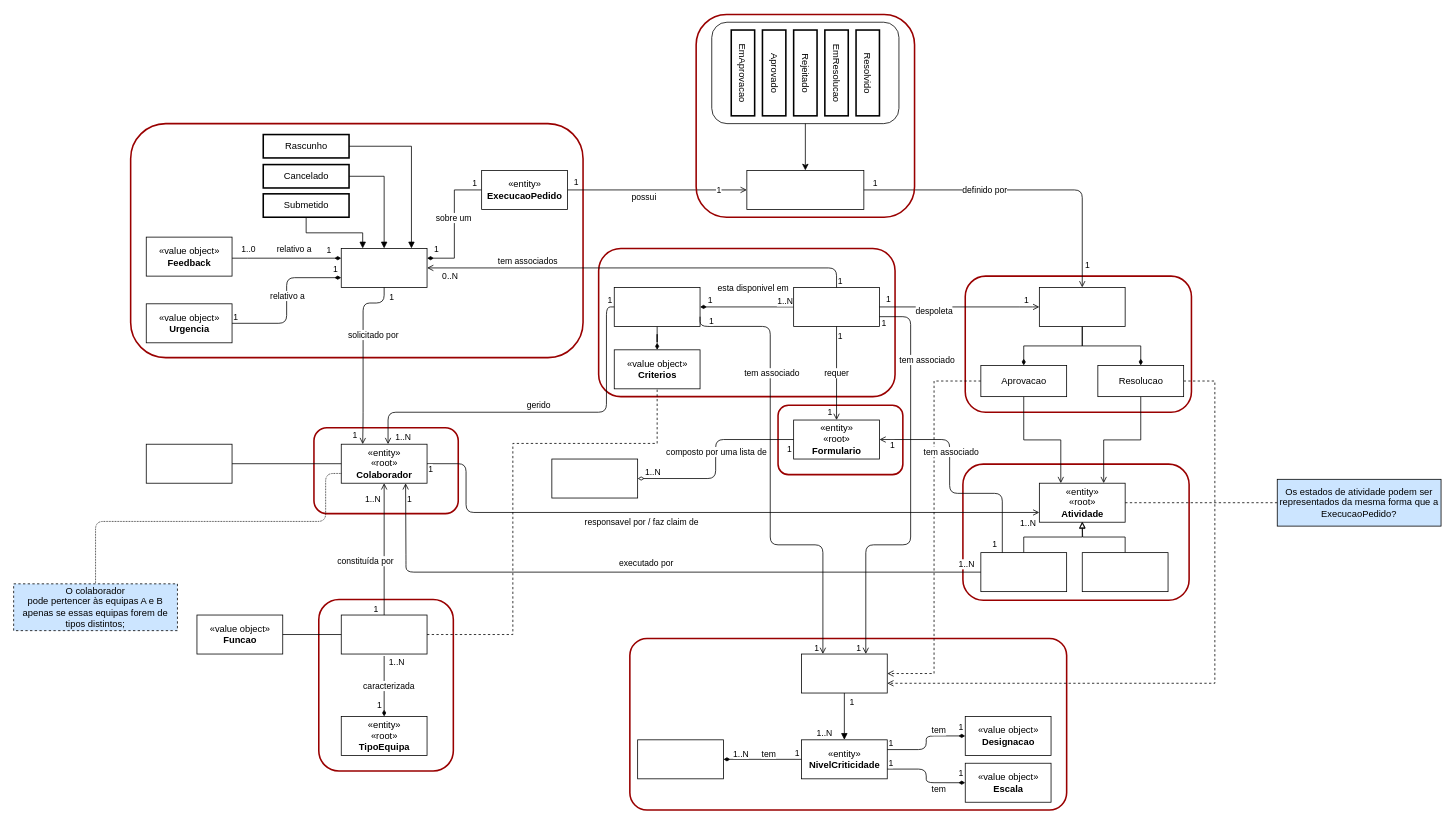
Image size: 1455x824. Some labels were removed from this diagram. Each missing label, with the box of its shape:
«entity» AtividadeAuto: (1081, 552, 1168, 592)
«entity» AtividadeManual: (980, 552, 1067, 592)
«entity» Atributo: (551, 458, 638, 498)
«entity» Equipa: (340, 614, 427, 654)
«entity» Servico: (793, 287, 879, 326)
«entity» Utilizador: (145, 443, 232, 483)
«entity» «root» Catalogo: (613, 287, 700, 326)
«entity» «root» FluxoAtividade: (1039, 287, 1125, 326)
«entity» «root» Pedido: (340, 248, 427, 287)
«entity» «root» SLA: (801, 653, 887, 693)
«entity» «temporal» EstadoExecucaoPedido: (746, 170, 864, 209)
«value object» ObjetivoSLA: (637, 739, 723, 779)
